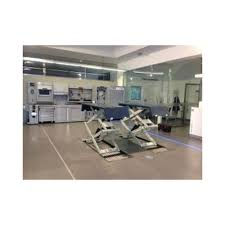Scissor Lift: (81, 100, 130, 159)
